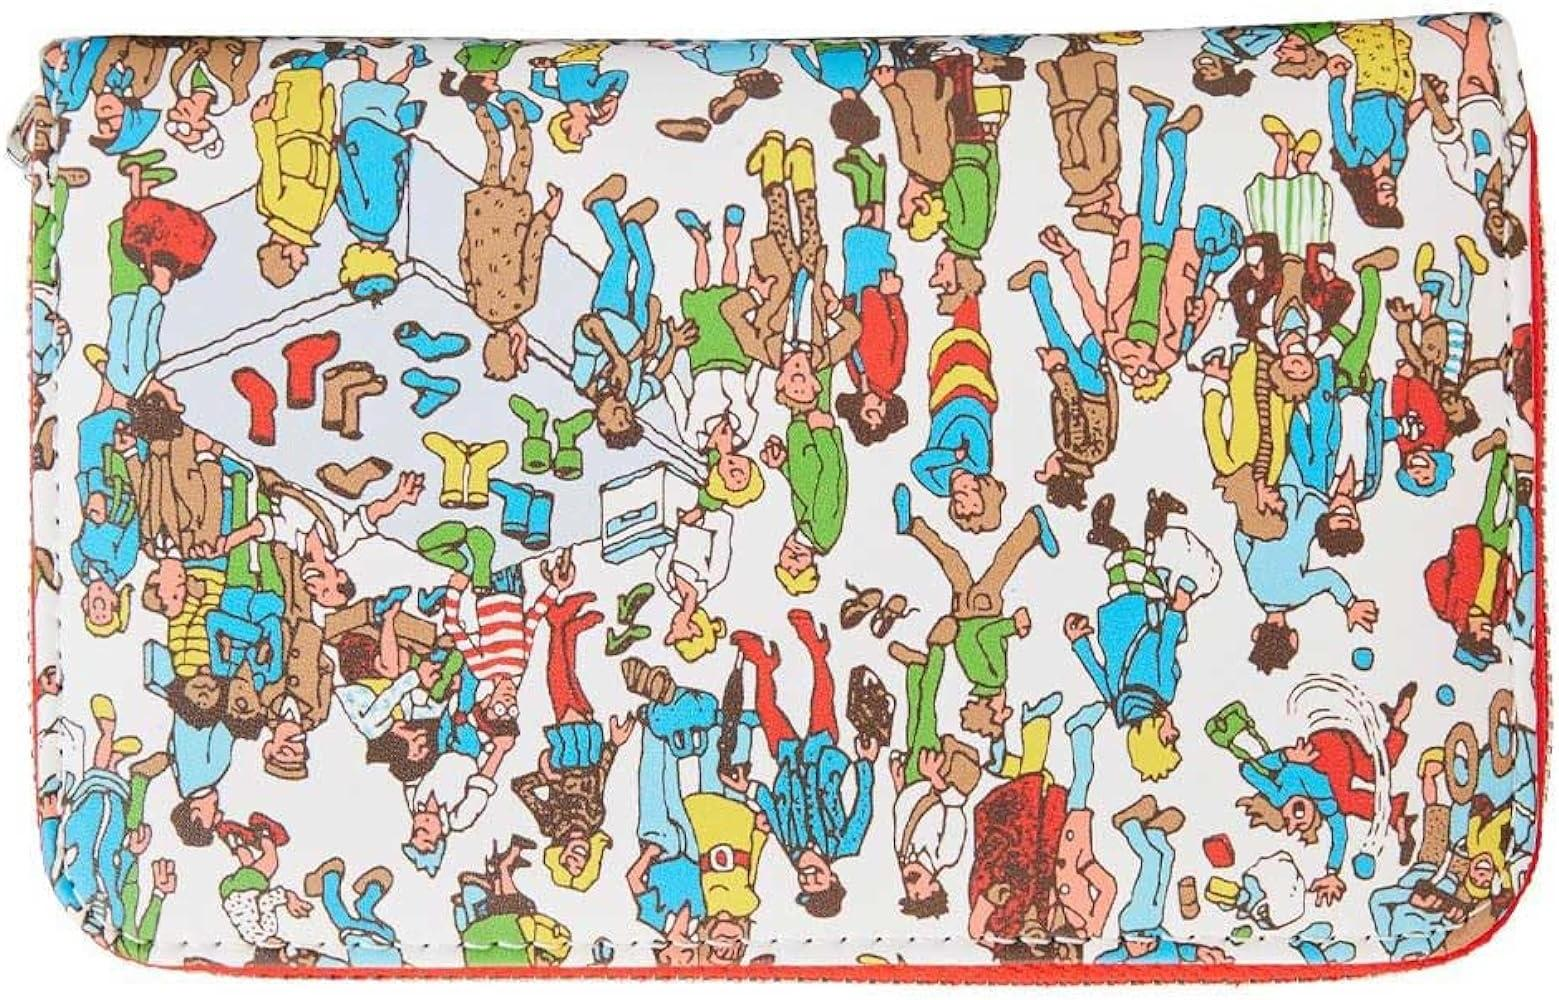waldos: (445, 569, 555, 733)
